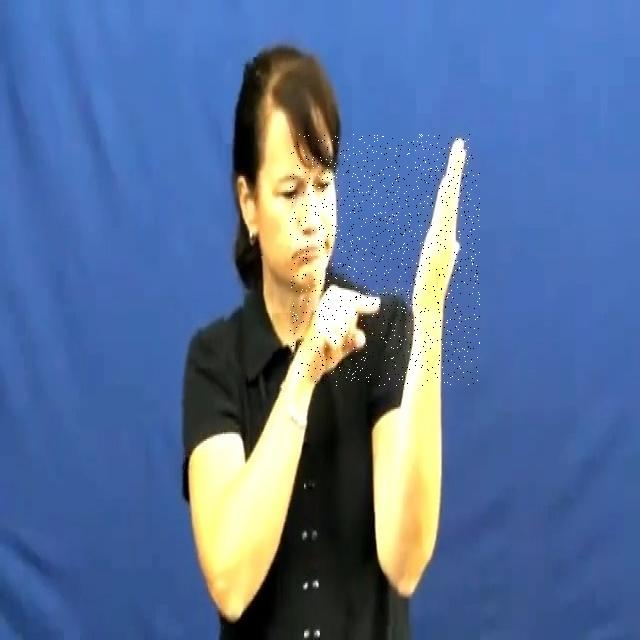menu: (290, 134, 480, 386)
